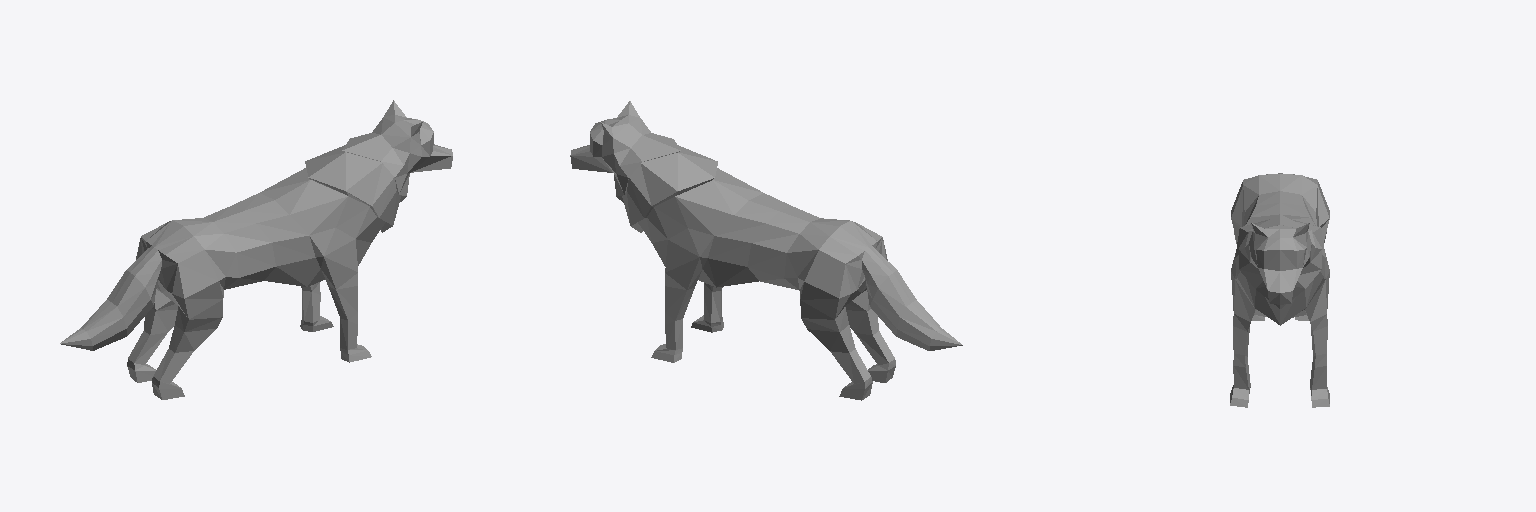
The model's file is Wolf.obj.
3 renders of one model, left to right at view 1: azimuth 30°, elevation 25°; view 2: azimuth 150°, elevation 25°; view 3: azimuth 270°, elevation 25°, orthographic.
Parts seen in each view (by area): view 1: Wolf_Cylinder; view 2: Wolf_Cylinder; view 3: Wolf_Cylinder.
Boxes of the visible parts, x1=… form: Wolf_Cylinder: x1=60, y1=100, x2=452, y2=399; Wolf_Cylinder: x1=570, y1=101, x2=962, y2=400; Wolf_Cylinder: x1=1230, y1=173, x2=1329, y2=407.
Size of the model in its own units: 10 by 5.25 by 2.21.